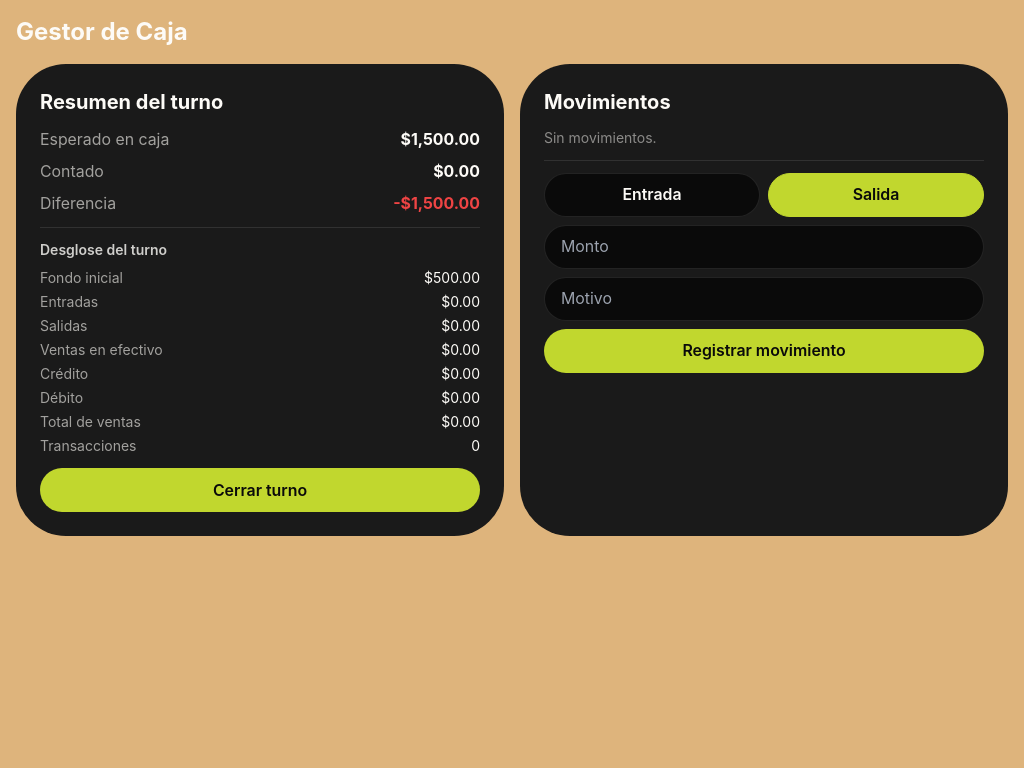
it: F10.6.1 — criterio 4: ENTER avanza el foco › pasa de efectivo a crédito y luego a débito
The image size is (1024, 768).
Expected: the heading "Resumen del turno" is shown, [40,90,223,114]
Click the button "Cerrar turno". click: x=260, y=490
box: [40,468,480,512]
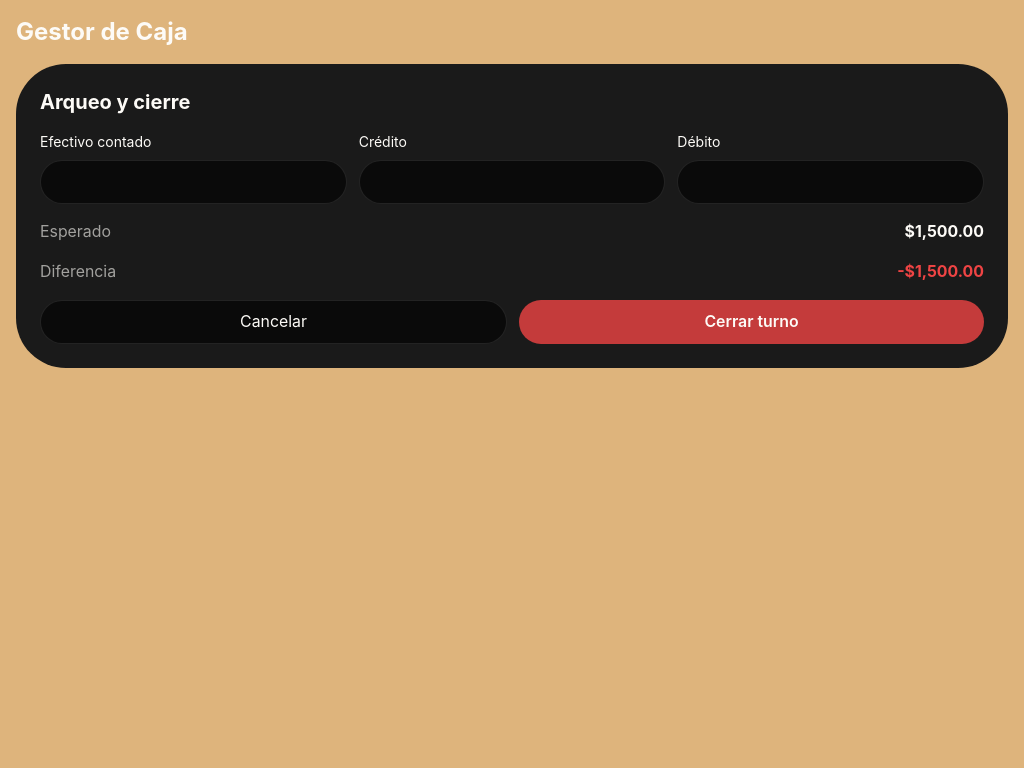
Focus the field with test id "campo-conteoEfectivo". click: x=193, y=182
box: [40,160,347,204]
(page scrolled)
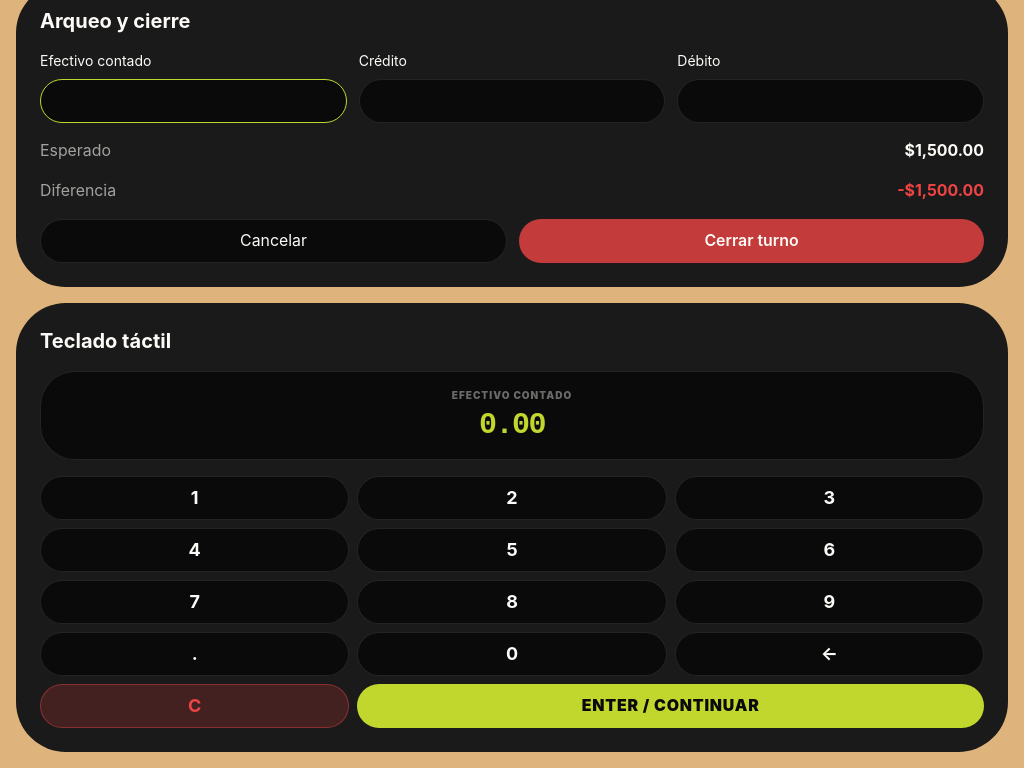
Click the button with aria-label "Tecla ENTER". click: x=671, y=706
box: [357,684,984,728]
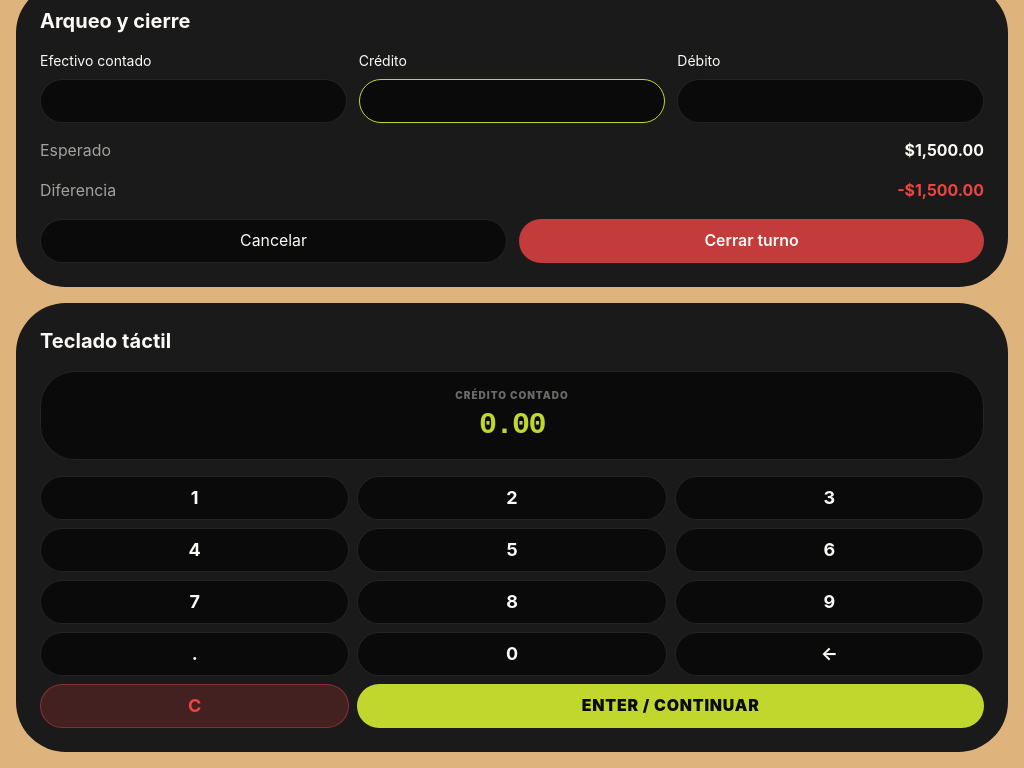
Click the button with aria-label "Tecla ENTER". click: x=671, y=706
box: [357,684,984,728]
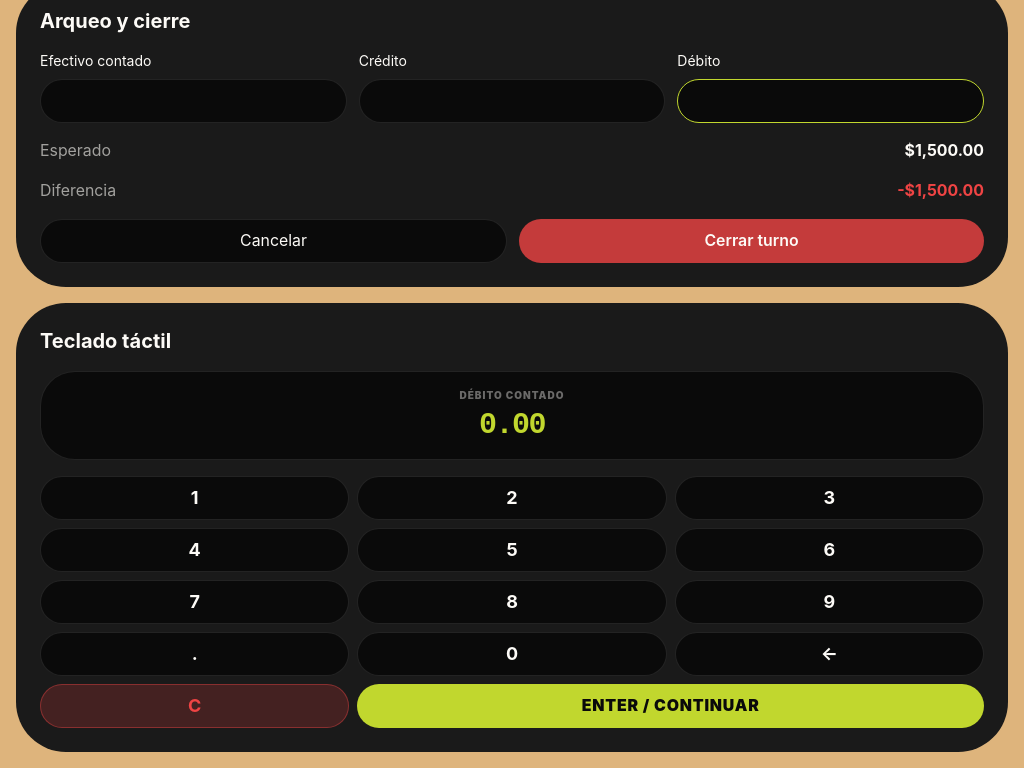
Click the button with aria-label "Tecla ENTER". click: x=671, y=706
box: [357,684,984,728]
(page scrolled)
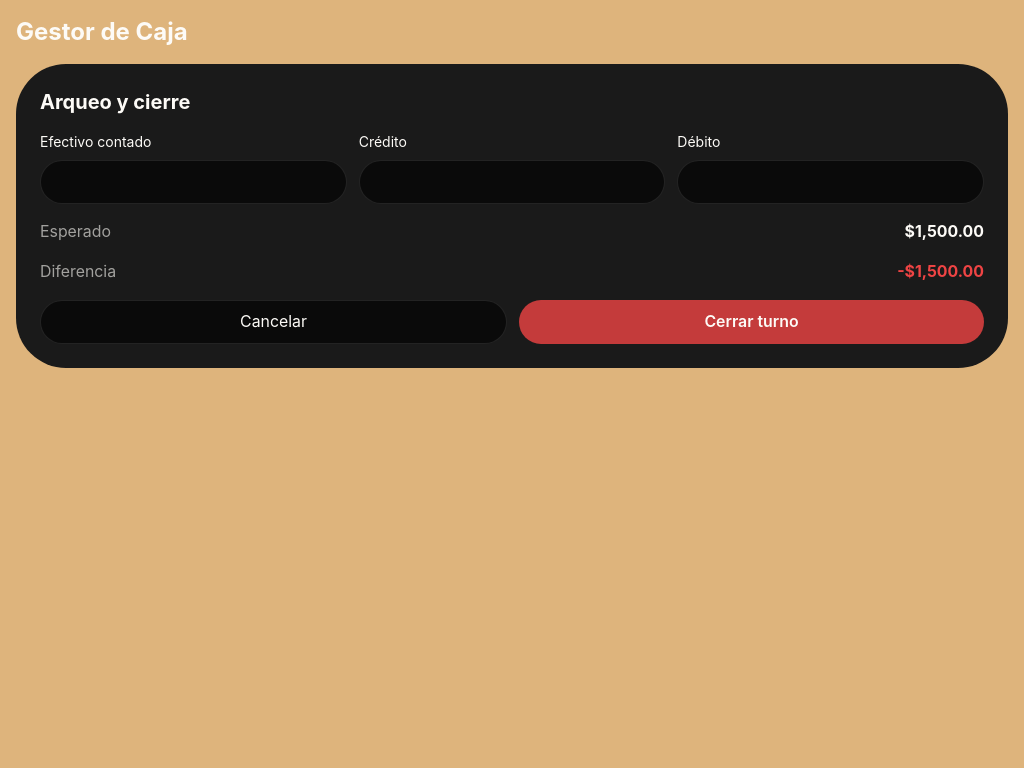
Now the heading labelled "Teclado táctil" is gone
